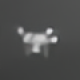plane: (14, 24, 61, 59)
